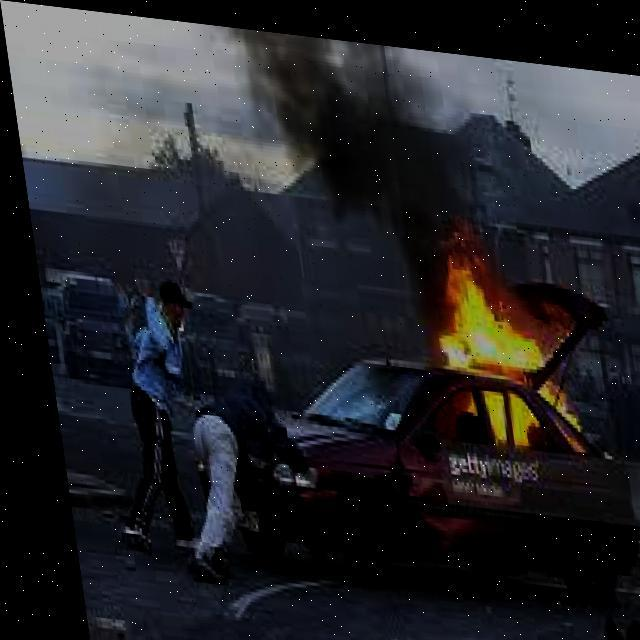Fire: (401, 210, 591, 444)
